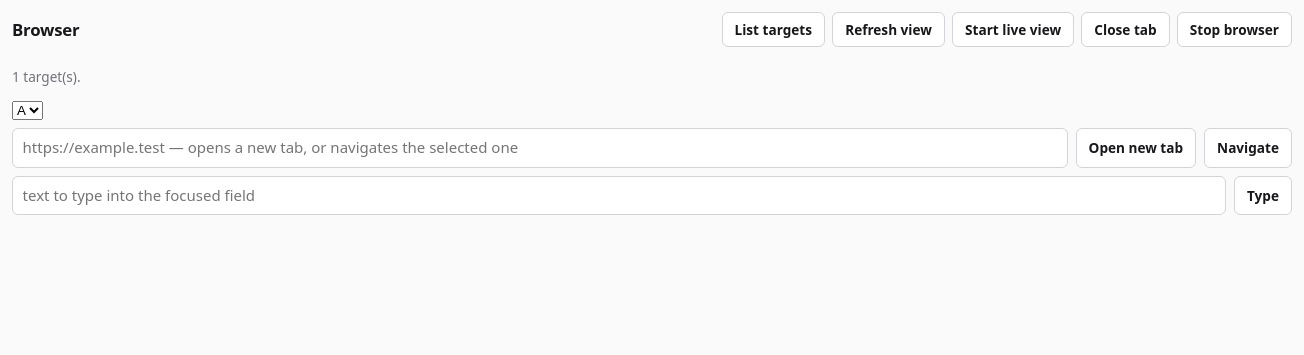
Test: BrowserPane › stops capturing when the live toggle is switched off
expect the text "1 target(s)." is shown: met, box [12,67,81,86]
Click the button "Start live view" at (1013, 30), box [952,12,1074,47]
Wait 1500 ms
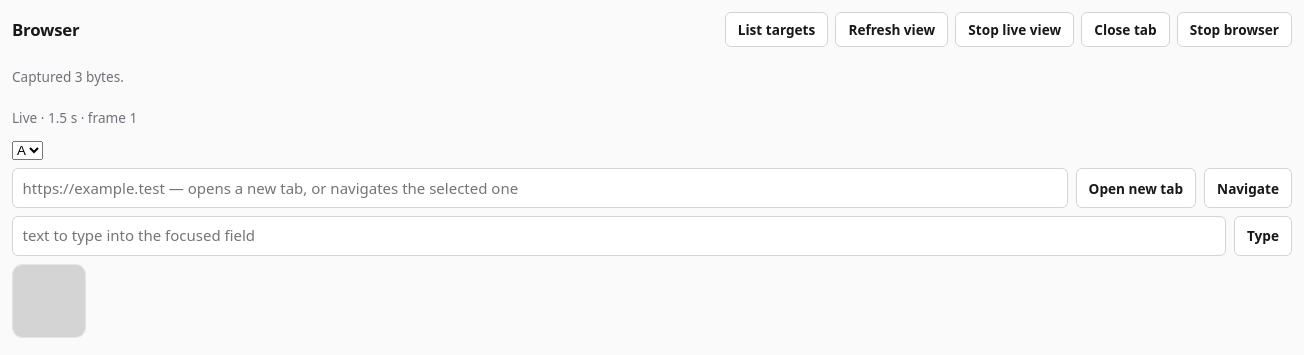
Click the button "Stop live view" at (1015, 30), box [955,12,1074,47]
Wait 6000 ms
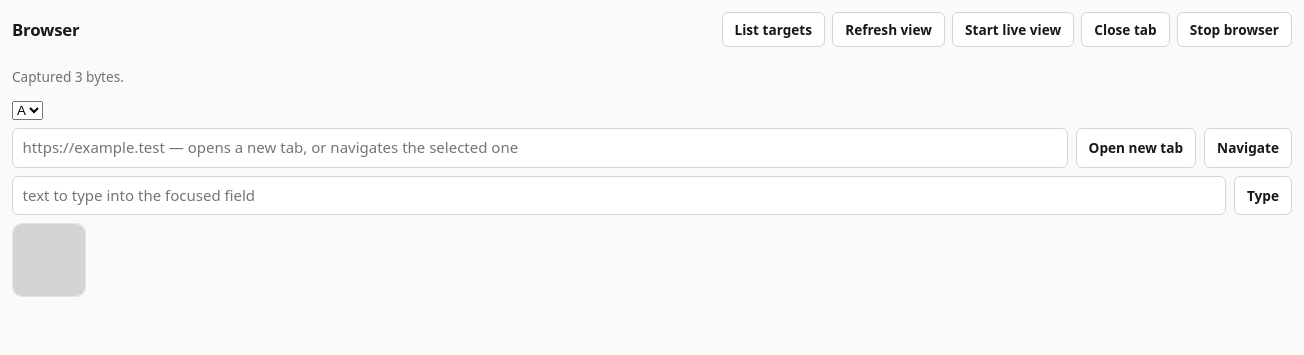
expect the button "Start live view" is shown: met, box [952,12,1074,47]
